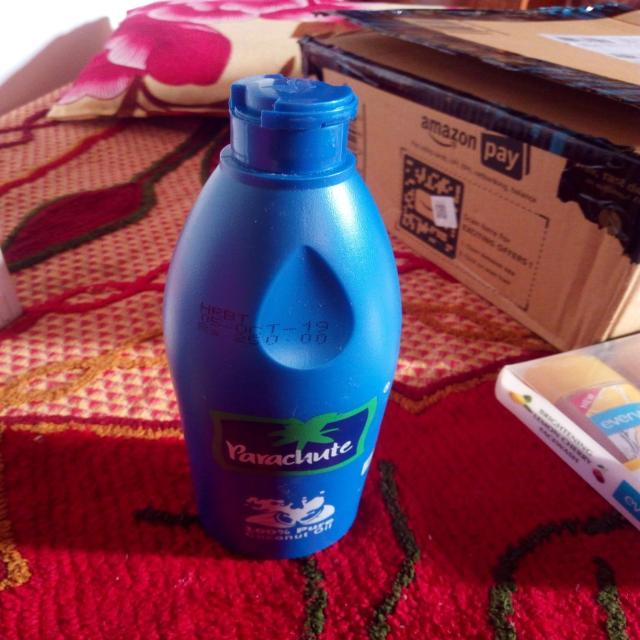parachute_oil: (154, 72, 414, 567)
